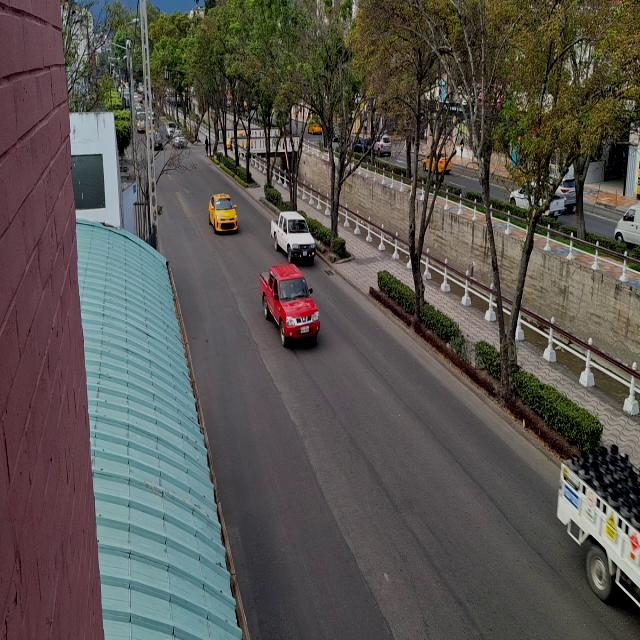CMT: (259, 264, 318, 343), (271, 212, 315, 263), (511, 188, 561, 218)
SED: (206, 188, 242, 236)
